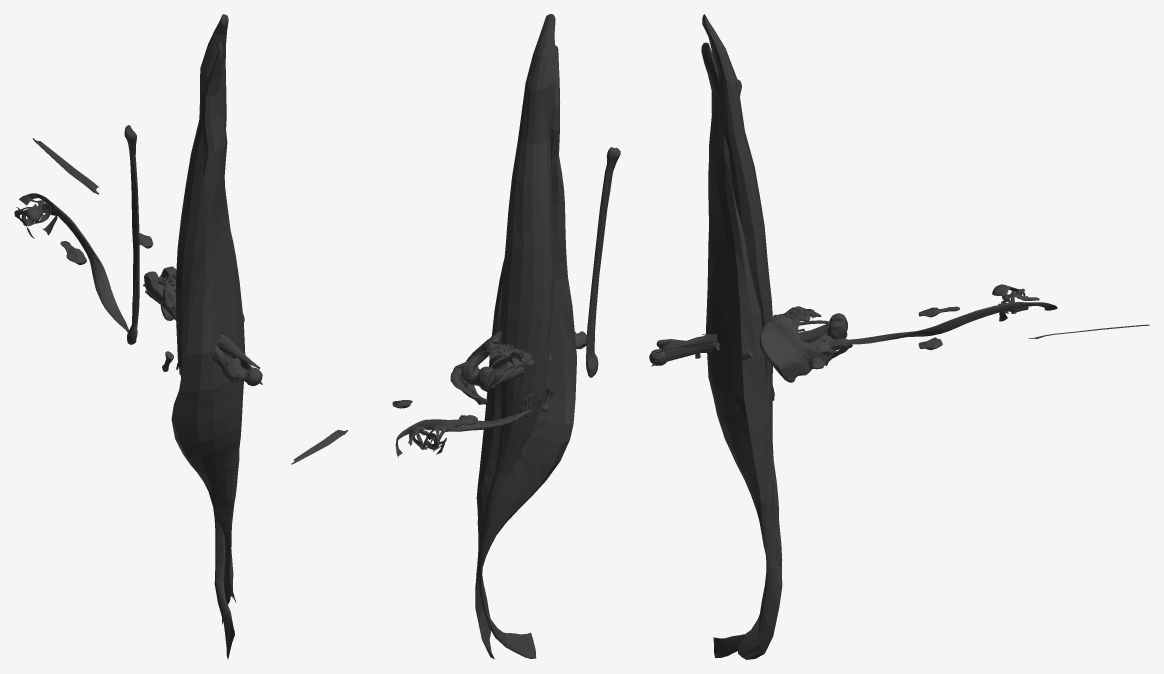
The model's file is sharedassets30.glb.
The picture shows the model from 3 angles, left to right: view 1: azimuth 30°, elevation 25°; view 2: azimuth 150°, elevation 25°; view 3: azimuth 270°, elevation 25°; orthographic projection. The views are drawn at different scales.
Visible parts, largest first — view 1: 0024_Semimembranosus, R__1000369, 0023_Semitendinosus, R__1000375, 0020_Sartorius, R__1000361, 0028_Fibula _leg_, R__000928, 0058_Femur _thigh_, R__000930, 0091_Fibula _leg_, L__000922, 0029_Interosseous membrane of the leg _middle, 0022_Biceps femoris, long head, R__100056, 0103_S01-05 Sacrum_female_301827; view 2: 0023_Semitendinosus, R__1000375, 0024_Semimembranosus, R__1000369, 0028_Fibula _leg_, R__000928, 0058_Femur _thigh_, R__000930, 0020_Sartorius, R__1000361, 0091_Fibula _leg_, L__000922, 0103_S01-05 Sacrum_female_301827; view 3: 0024_Semimembranosus, R__1000369, 0023_Semitendinosus, R__1000375, 0061_Ilium, R__001012, 0096_Ilium, L_male_001003, 0020_Sartorius, R__1000361, 0058_Femur _thigh_, R__000930.
Boxes of the visible parts, <box> form: 0024_Semimembranosus, R__1000369: <box>171,43,245,624</box>; 0023_Semitendinosus, R__1000375: <box>176,14,234,659</box>; 0020_Sartorius, R__1000361: <box>19,193,128,332</box>; 0028_Fibula _leg_, R__000928: <box>124,125,139,344</box>; 0058_Femur _thigh_, R__000930: <box>144,266,261,383</box>; 0091_Fibula _leg_, L__000922: <box>124,125,139,344</box>; 0029_Interosseous membrane of the leg _middle: <box>32,138,98,194</box>; 0022_Biceps femoris, long head, R__100056: <box>145,290,260,368</box>; 0103_S01-05 Sacrum_female_301827: <box>161,274,176,309</box>; 0023_Semitendinosus, R__1000375: <box>477,14,555,658</box>; 0024_Semimembranosus, R__1000369: <box>475,45,576,659</box>; 0028_Fibula _leg_, R__000928: <box>586,147,618,377</box>; 0058_Femur _thigh_, R__000930: <box>461,331,586,391</box>; 0020_Sartorius, R__1000361: <box>395,409,533,457</box>; 0091_Fibula _leg_, L__000922: <box>590,147,620,376</box>; 0103_S01-05 Sacrum_female_301827: <box>486,343,530,363</box>; 0024_Semimembranosus, R__1000369: <box>701,42,782,659</box>; 0023_Semitendinosus, R__1000375: <box>702,14,782,657</box>; 0061_Ilium, R__001012: <box>759,314,817,381</box>; 0096_Ilium, L_male_001003: <box>761,314,816,382</box>; 0020_Sartorius, R__1000361: <box>849,302,1057,344</box>; 0058_Femur _thigh_, R__000930: <box>649,313,847,363</box>.
Size of the model in its own units: 0.1862 by 0.8783 by 0.624.
Materials: 1 (1 with a texture image).
